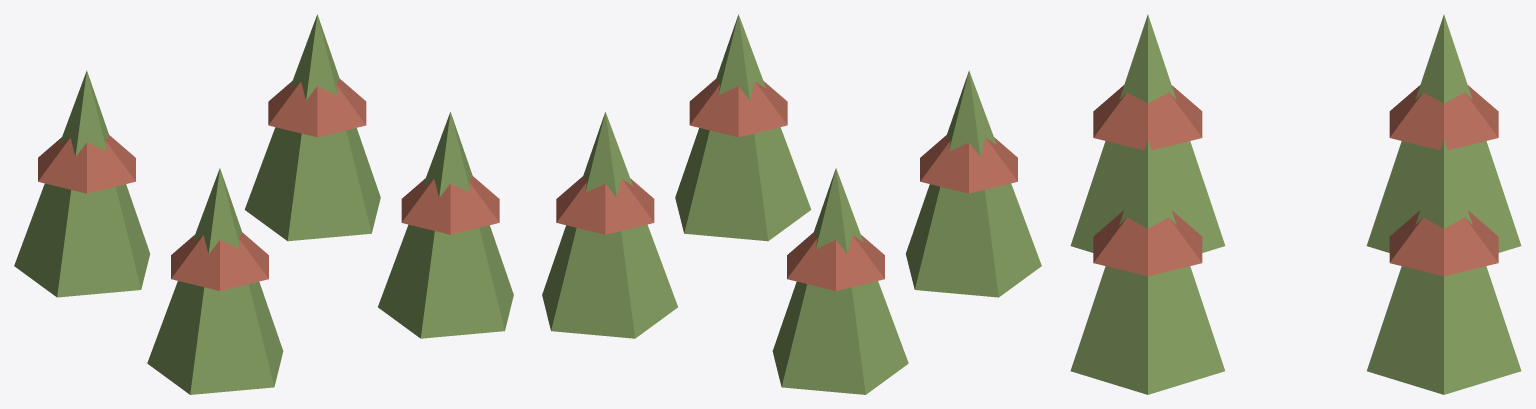
File: tomato_ripe.glb
3 renders of one model, left to right at view 1: azimuth 30°, elevation 25°; view 2: azimuth 150°, elevation 25°; view 3: azimuth 270°, elevation 25°, orthographic. The views are drawn at different scales.
Bounding box in the file's own units: 1.2 × 0.66 × 1.22.
